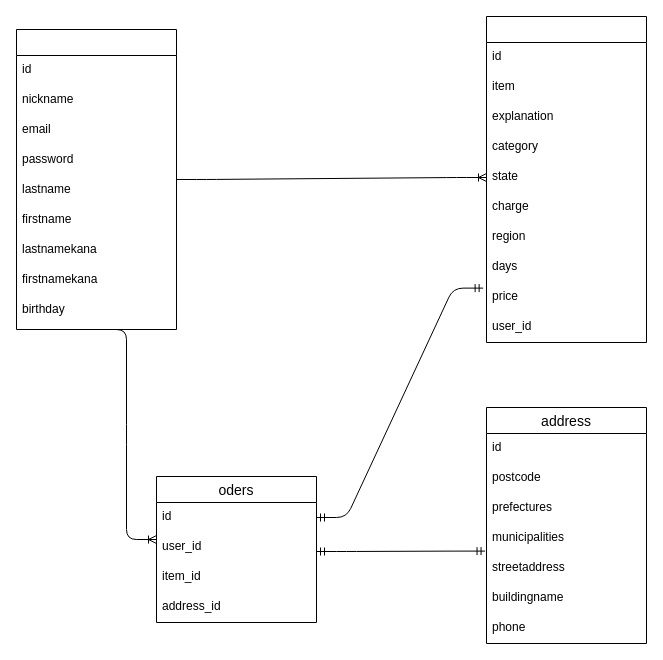
Some shapes in this 663 by 660 pixel diagram are drawn without their labels. Here are the shapes that lost their labels. From the top down, the box of each, then its label:
(16, 28, 176, 330): users
(486, 16, 646, 342): items
